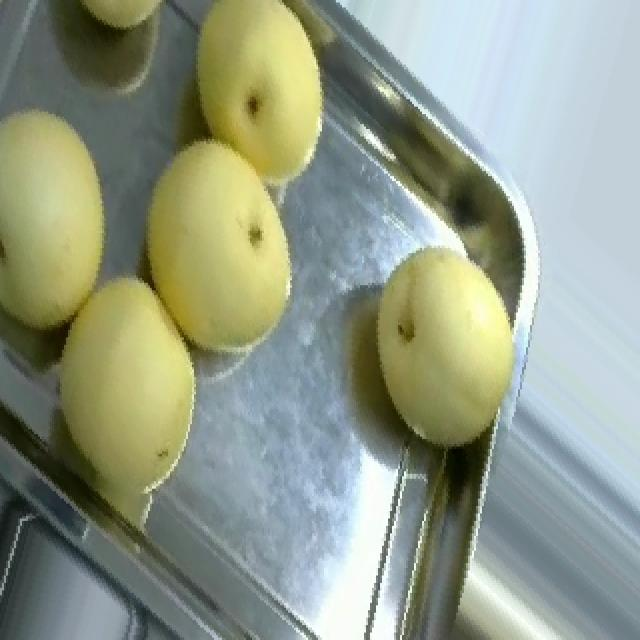Fruit: (110, 124, 314, 377), (30, 251, 220, 514), (350, 231, 542, 471), (0, 80, 138, 352), (162, 0, 342, 206), (26, 0, 204, 52)
